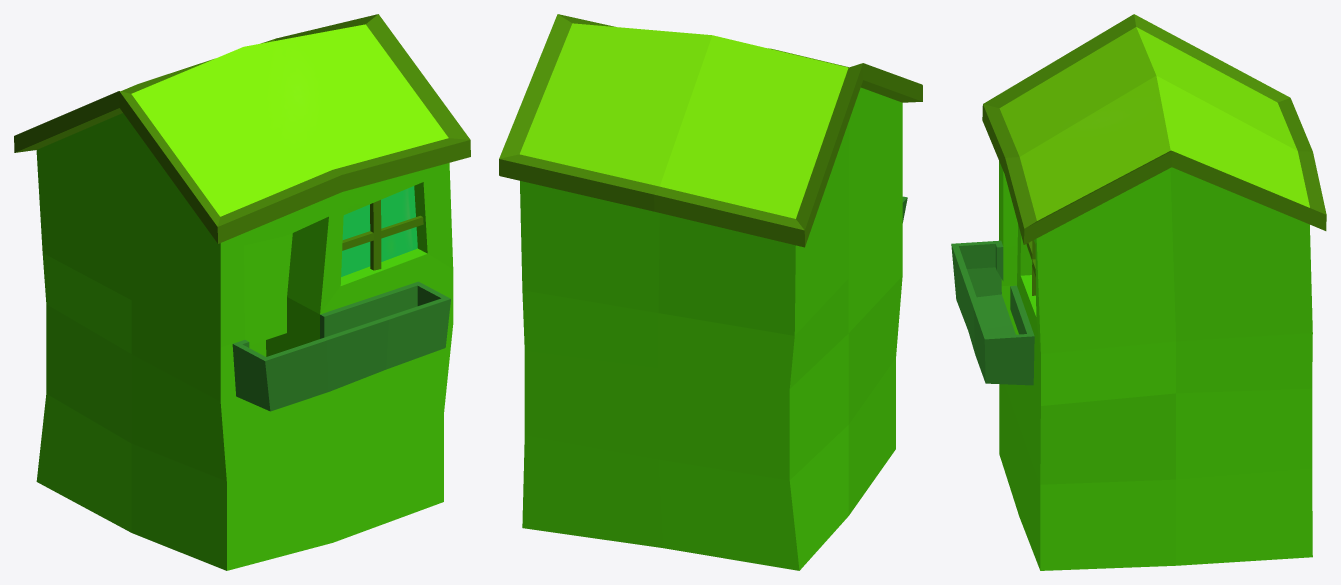
File: Level_5.fbx
The picture shows the model from 3 angles, left to right: view 1: azimuth 30°, elevation 25°; view 2: azimuth 150°, elevation 25°; view 3: azimuth 270°, elevation 25°; orthographic projection. The views are drawn at different scales.
Parts seen in each view (by area): view 1: Cube.014; view 2: Cube.014; view 3: Cube.014.
Boxes of the visible parts, box(x1,y1,x2,y2) form: Cube.014: box(14, 14, 470, 570); Cube.014: box(499, 14, 922, 570); Cube.014: box(951, 14, 1326, 570).
Bounding box in the file's own units: 3747 × 5039 × 3965.
